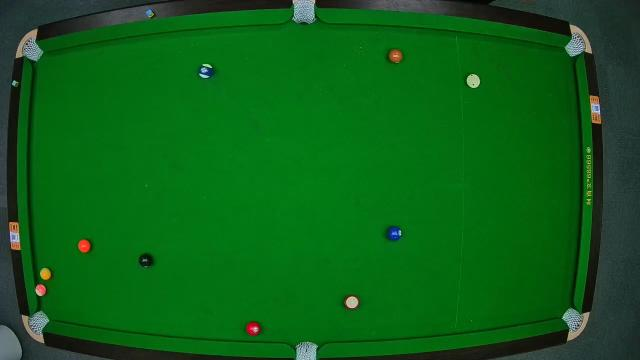bag1: (21, 38, 44, 62)
bag2: (294, 1, 316, 24)
bag3: (566, 28, 586, 58)
bag4: (25, 310, 51, 336)
bag5: (294, 342, 318, 360)
bag6: (564, 310, 584, 332)
ball0: (468, 75, 480, 89)
ball1: (40, 269, 51, 281)
ball10: (198, 62, 214, 80)
ball11: (344, 294, 360, 310)
ball12: (36, 284, 46, 298)
ball2: (386, 224, 402, 242)
ball3: (248, 321, 260, 337)
ball5: (78, 240, 92, 254)
ball7: (387, 50, 403, 64)
ball8: (140, 253, 152, 269)
